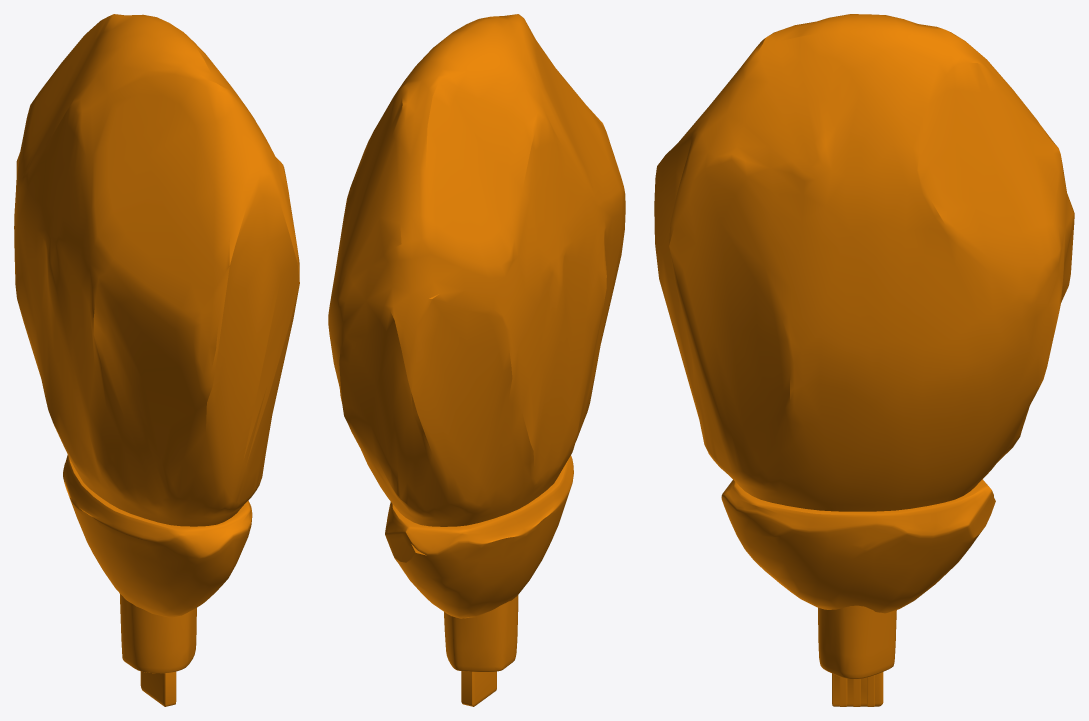
The model's file is usb_low.fbx.
The picture shows the model from 3 angles, left to right: view 1: azimuth 30°, elevation 25°; view 2: azimuth 150°, elevation 25°; view 3: azimuth 270°, elevation 25°; orthographic projection. The views are drawn at different scales.
Parts seen in each view (by area): view 1: crystal_low, hanger_low, stick_low, connect_low; view 2: crystal_low, hanger_low, stick_low, connect_low; view 3: crystal_low, hanger_low, stick_low, connect_low, contacts_low.
Boxes of the visible parts, <box> form: crystal_low: <box>14,14,299,526</box>; hanger_low: <box>63,455,252,617</box>; stick_low: <box>119,593,196,673</box>; connect_low: <box>140,671,176,706</box>; crystal_low: <box>328,14,625,526</box>; hanger_low: <box>385,455,573,618</box>; stick_low: <box>444,595,518,671</box>; connect_low: <box>461,671,496,706</box>; crystal_low: <box>654,14,1074,511</box>; hanger_low: <box>721,479,995,613</box>; stick_low: <box>818,605,896,679</box>; connect_low: <box>832,672,883,706</box>; contacts_low: <box>839,675,874,706</box>.
Size of the model in its own units: 119 by 386 by 214.
